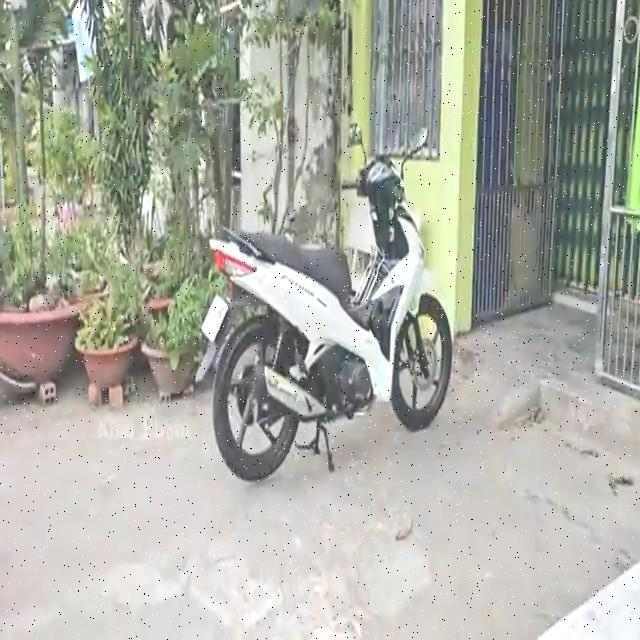motorcycle: (196, 129, 454, 490)
